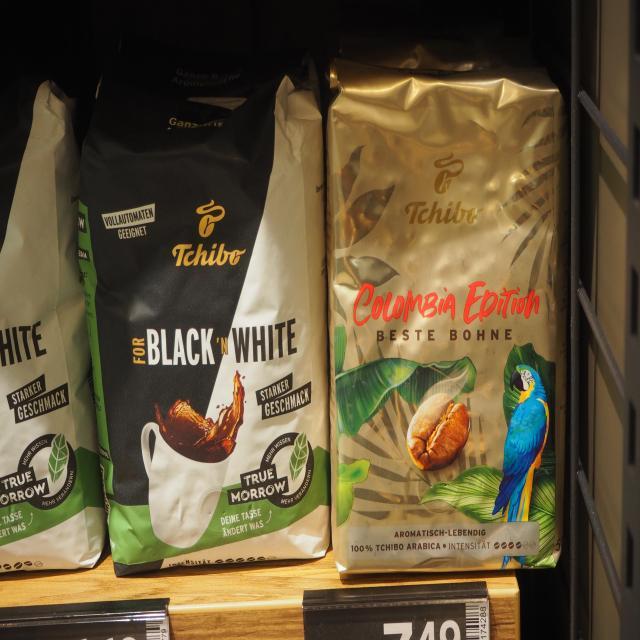BW Bohne: (71, 59, 332, 581)
Colombia BB Bohne: (323, 46, 570, 579)
